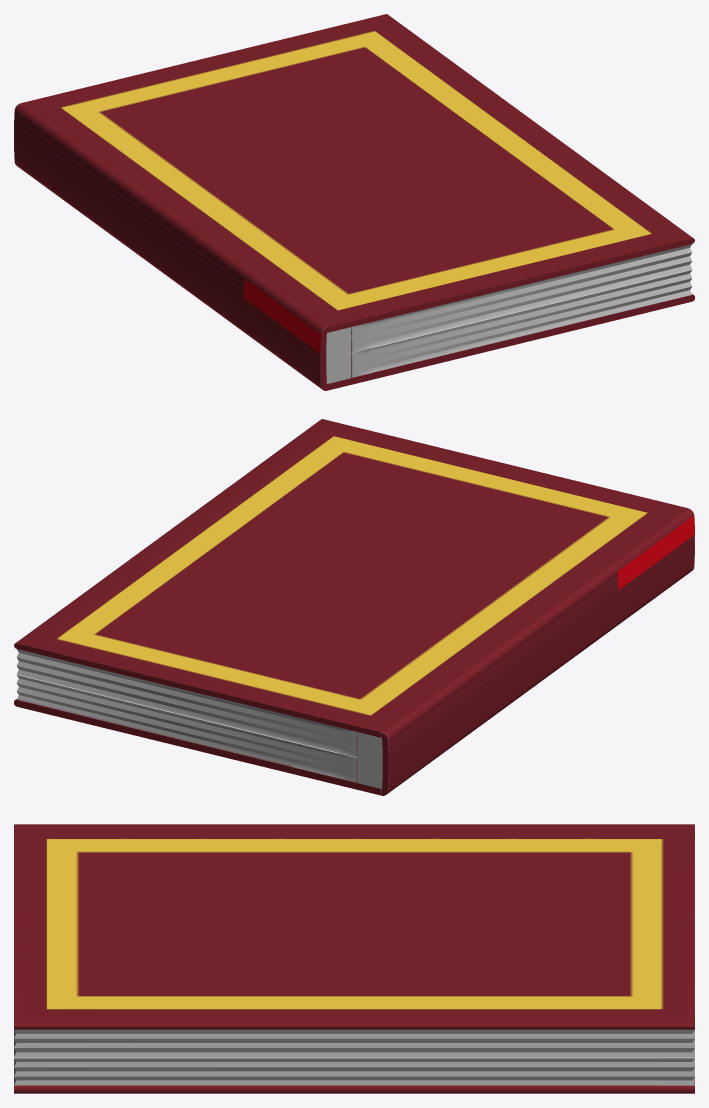
3 renders of one model, top to bottom at view 1: azimuth 30°, elevation 25°; view 2: azimuth 150°, elevation 25°; view 3: azimuth 270°, elevation 25°, orthographic. The views are drawn at different scales.
Parts seen in each view (by area): view 1: 蓝书_红; view 2: 蓝书_红; view 3: 蓝书_红.
Part boxes in pixels (<box>): 蓝书_红: <box>14,14,694,390</box>; 蓝书_红: <box>14,419,694,795</box>; 蓝书_红: <box>14,824,694,1093</box>.
Size of the model in its own units: 142 by 22.97 by 202.
